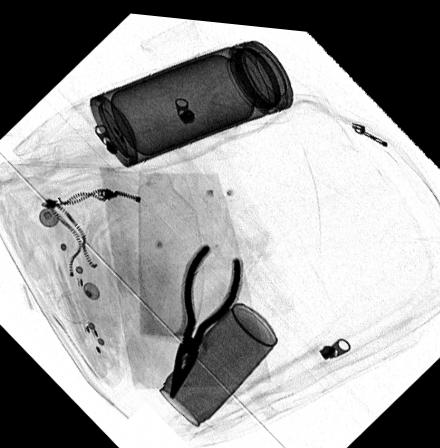Pliers: (168, 238, 240, 396)
